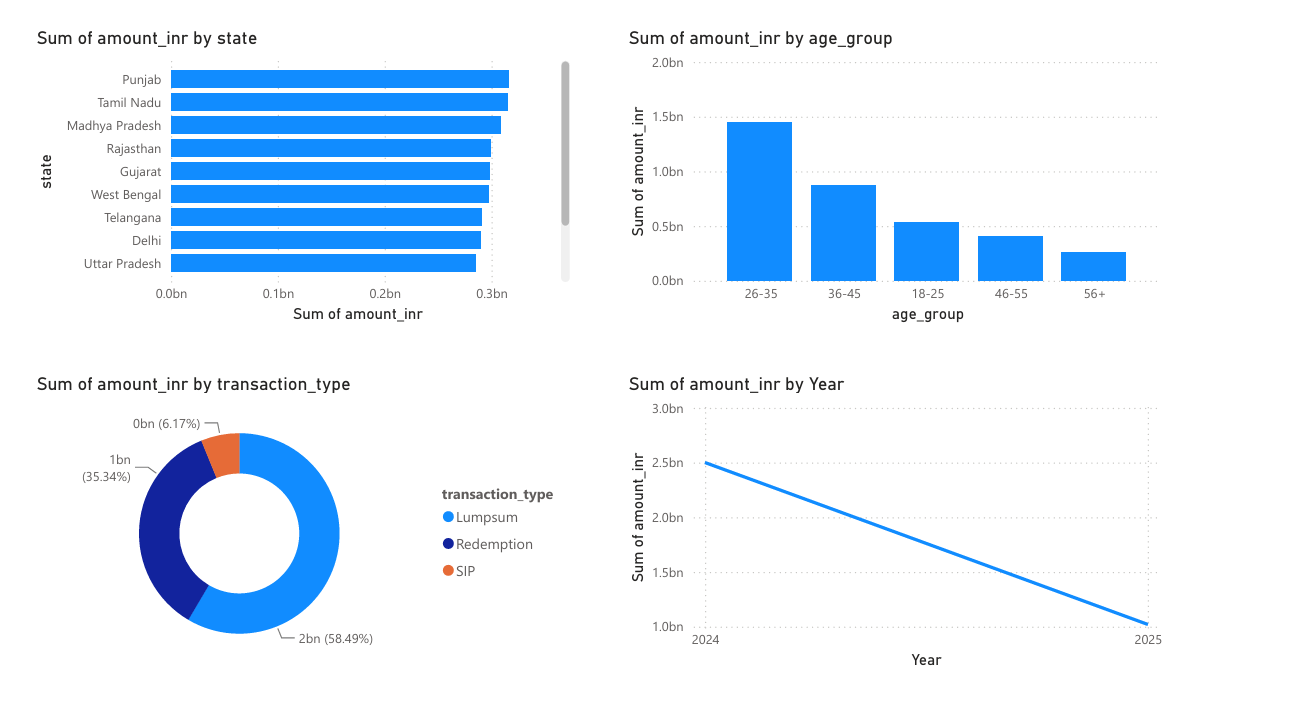

This screenshot's page, from the dashboard's own definition file:
{"tool":"powerbi","page":{"name":"Investor Analytics","canvas":[1280,720],"ordinal":2},"visuals":[{"type":"clusteredBarChart","fields":{"Y":["Sum(08_investor_transactions_clean.amount_inr)"],"Category":["08_investor_transactions_clean.state"]},"box":[21.2,37.9,505.7,280.1],"z":0},{"type":"donutChart","fields":{"Y":["Sum(08_investor_transactions_clean.amount_inr)"],"Category":["08_investor_transactions_clean.transaction_type"]},"box":[21.2,360.4,505.7,280.1],"z":1000},{"type":"clusteredColumnChart","fields":{"Category":["08_investor_transactions_clean.age_group"],"Y":["Sum(08_investor_transactions_clean.amount_inr)"]},"box":[572.4,37.9,505.7,280.1],"z":2000},{"type":"lineChart","fields":{"Category":["08_investor_transactions_clean.transaction_date.Variation.Date Hierarchy.Year","08_investor_transactions_clean.transaction_date.Variation.Date Hierarchy.Quarter","08_investor_transactions_clean.transaction_date.Variation.Date Hierarchy.Month","08_investor_transactions_clean.transaction_date.Variation.Date Hierarchy.Day"],"Y":["Sum(08_investor_transactions_clean.amount_inr)"]},"box":[572,360,506,280],"z":3000}]}

Visuals, with their boxes in screenshot pixels (x1, y1, x2, y2), scaled from the page's 1280x720 canvas onto the 1291x711 screenshot:
clusteredBarChart - Sum(08_investor_transactions_clean.amount_inr) x 08_investor_transactions_clean.state: [21,37,531,314]
donutChart - Sum(08_investor_transactions_clean.amount_inr) x 08_investor_transactions_clean.transaction_type: [21,356,531,632]
clusteredColumnChart - 08_investor_transactions_clean.age_group x Sum(08_investor_transactions_clean.amount_inr): [577,37,1087,314]
lineChart - 08_investor_transactions_clean.transaction_date.Variation.Date Hierarchy.Year x 08_investor_transactions_clean.transaction_date.Variation.Date Hierarchy.Quarter: [577,356,1087,632]
